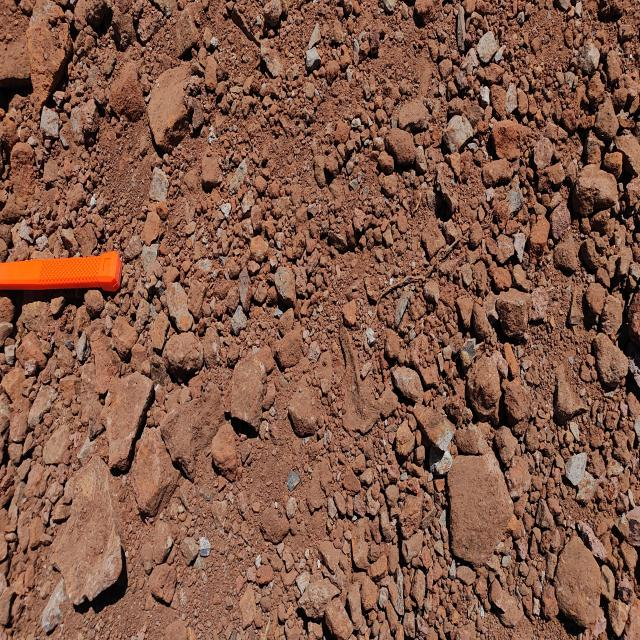Orange_hammer: (0, 249, 123, 293)
rock: (51, 450, 124, 610), (443, 434, 521, 580), (142, 55, 214, 175), (140, 44, 202, 168), (552, 533, 609, 628), (230, 358, 272, 432), (382, 125, 428, 181), (210, 419, 248, 486), (323, 591, 359, 638), (323, 599, 355, 640), (476, 29, 502, 66), (395, 422, 418, 460)
